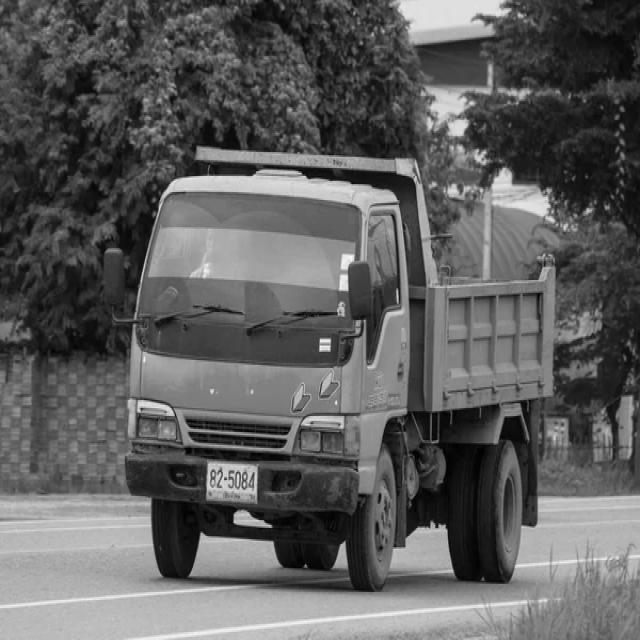Truck: (125, 146, 556, 591)
